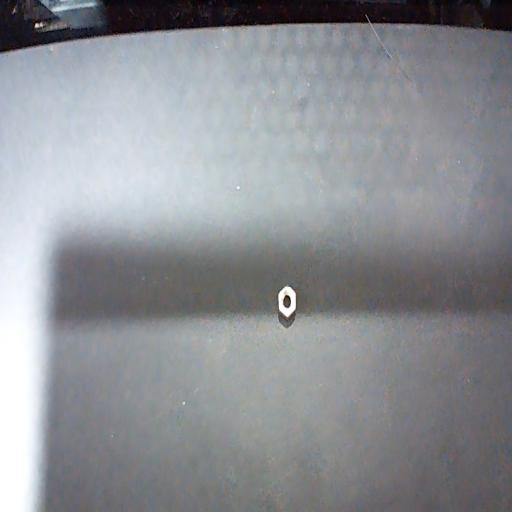nut: (278, 284, 296, 328)
